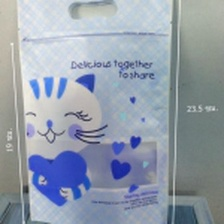snack: (10, 0, 179, 224)
